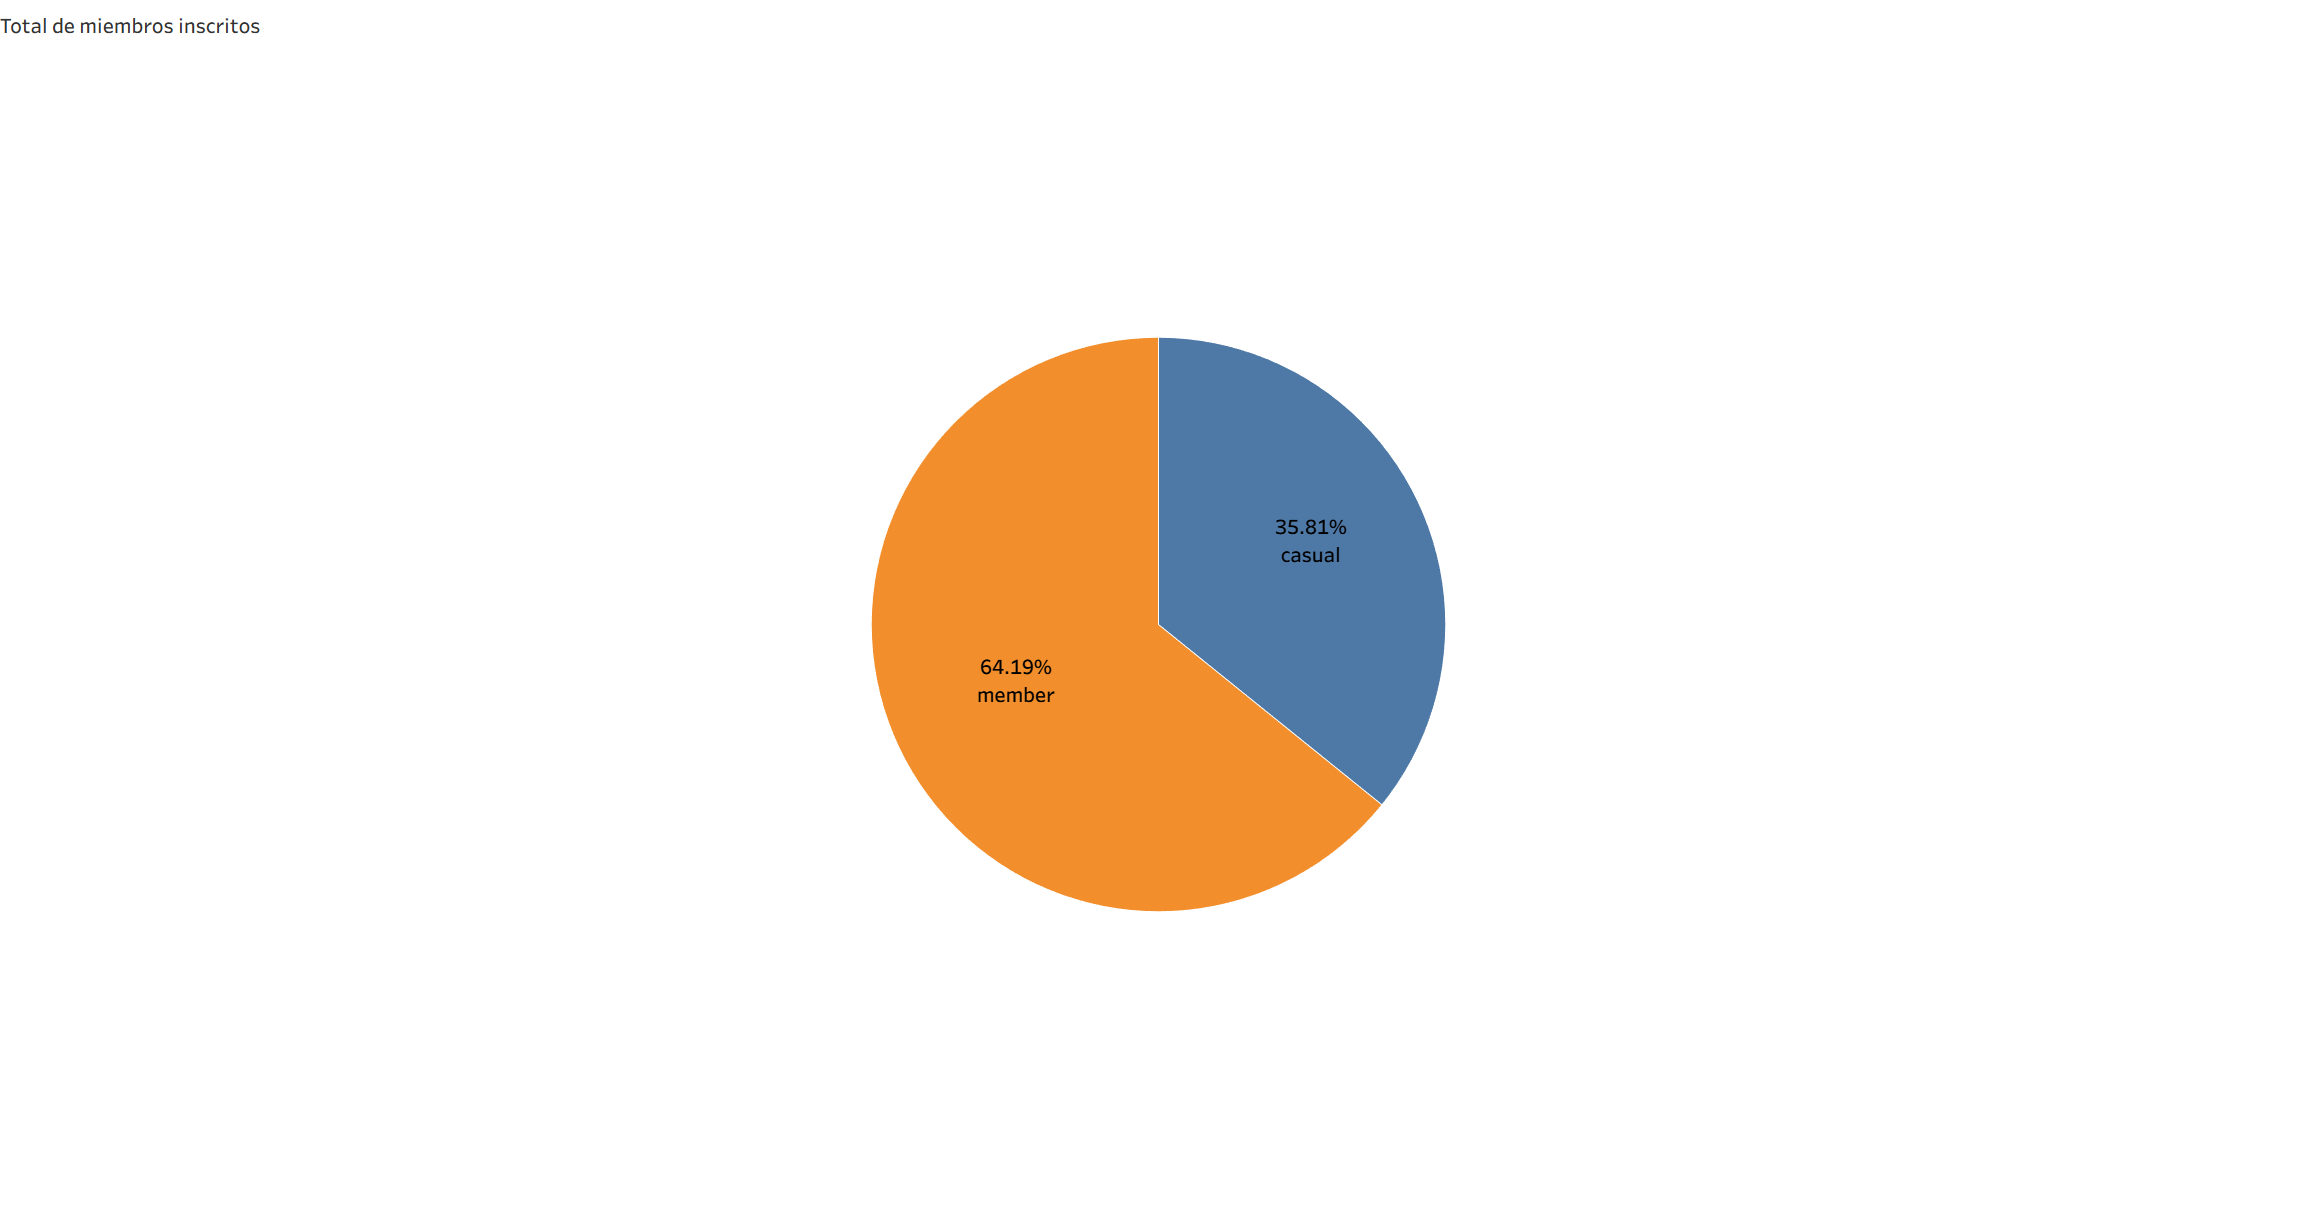

The page's visual inventory and layout, read from the dashboard file:
{"tool":"tableau","page":{"name":"Dashboard 2","canvas":[1000,1000],"units":"permille","ordinal":1},"visuals":[{"type":"worksheet","title":"Hoja 1","mark":"Pie","box":[7,14.7,986.1,970.6]}]}

Visuals, with their boxes on the dashboard's canvas, which has no fixed pixel size, in thousandths of its width and height (x1, y1, x2, y2). These are canvas units, not pixel positions in the 2320x1205 screenshot, which may show the page scaled, cropped or inside an application window:
"Hoja 1" worksheet (Pie marks): locate(7, 15, 993, 985)
